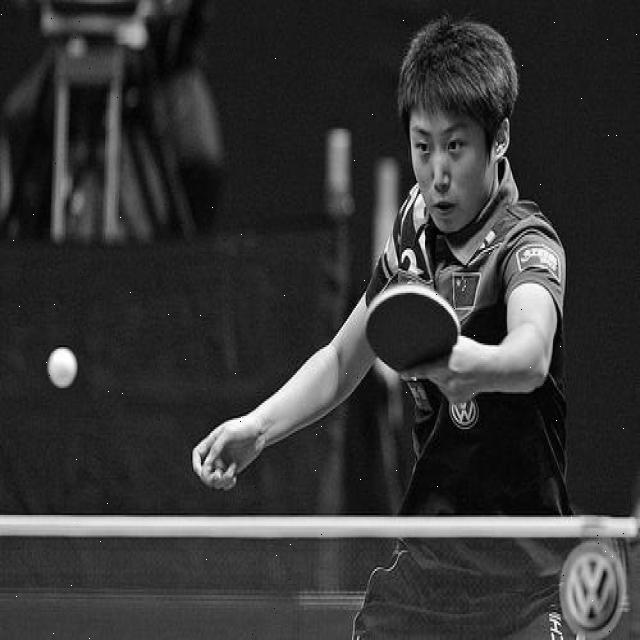ping-pong-ball: (48, 347, 78, 389)
